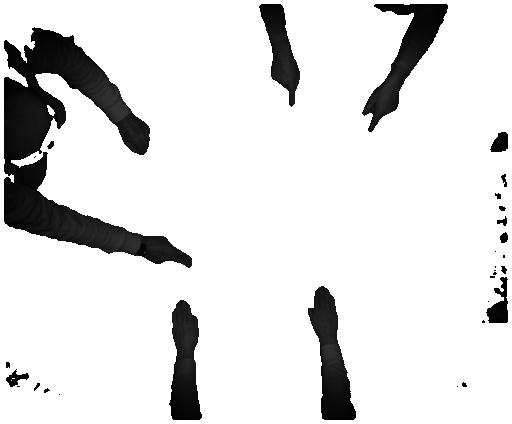fist: (120, 119, 151, 159)
hand: (360, 84, 407, 135), (304, 280, 343, 339), (264, 55, 303, 111), (168, 296, 199, 356), (147, 232, 191, 271)
